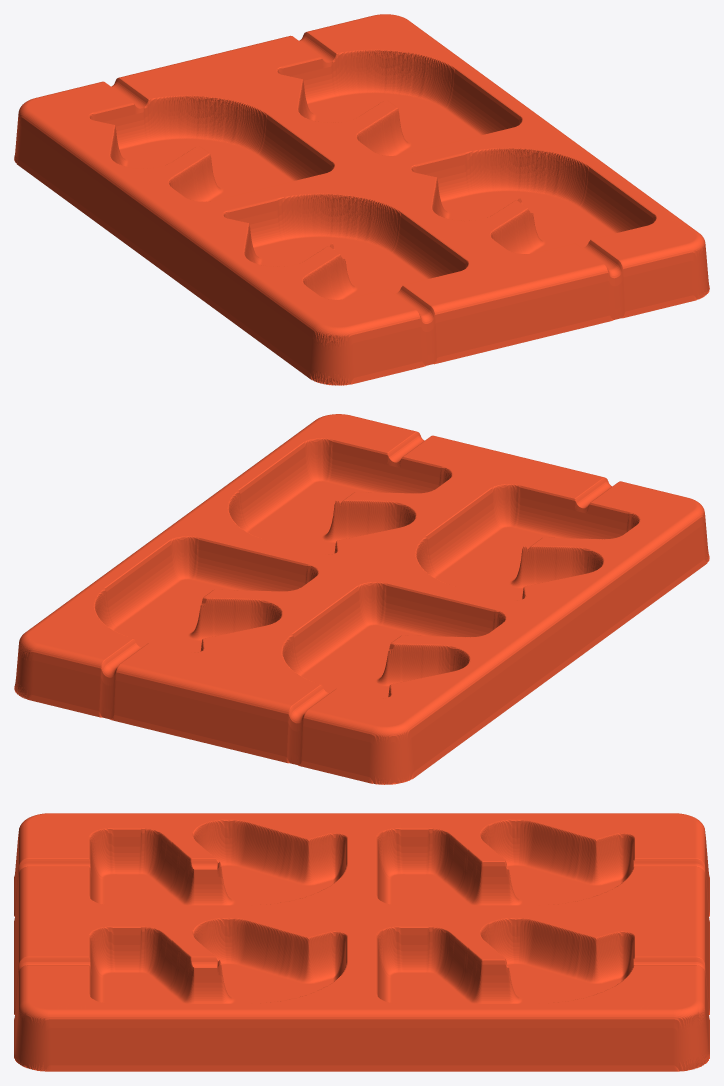
File: mold.glb
3 renders of one model, top to bottom at view 1: azimuth 30°, elevation 25°; view 2: azimuth 150°, elevation 25°; view 3: azimuth 270°, elevation 25°, orthographic. The views are drawn at different scales.
Visible parts, largest first — view 1: geometry_0; view 2: geometry_0; view 3: geometry_0.
Boxes of the visible parts, x1=… form: geometry_0: x1=14, y1=14, x2=709, y2=385; geometry_0: x1=14, y1=414, x2=709, y2=784; geometry_0: x1=14, y1=813, x2=709, y2=1071.
Bounding box in the file's own units: 0.1223 × 0.0155 × 0.1735.
